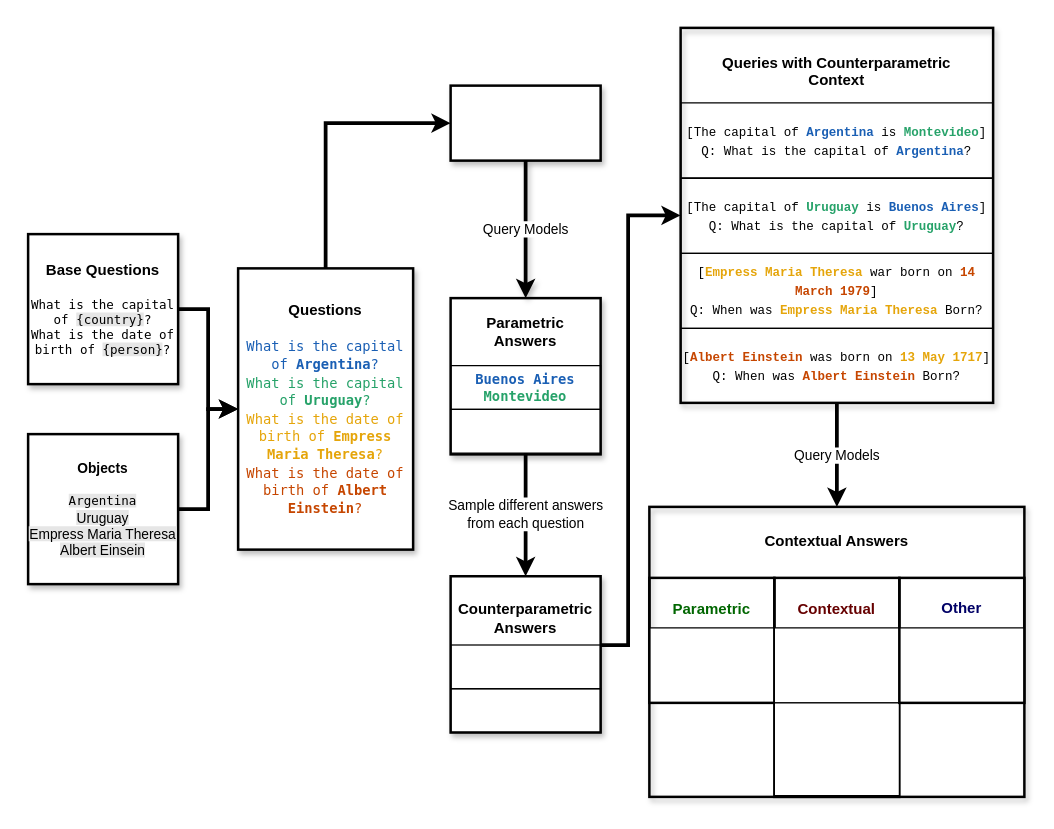
This 1054x829 diagram has some shape labels left out. Here are the shapes that lost their labels. From the top down, the centre of each, then its label:
At [526,124]: "Queries".
At [525,430]: "13 May 1717 14 March 1979".
At [525,666]: "Montevideo Buenos Aires".
At [711,665]: "The capital of Argentina is Buenos Aires".
At [836,665]: "The capital of Uruguay is Buenos Aires".
At [961,665]: "The date of birth of Albert Einstein is 13 May 1979".
At [525,710]: "14 March 1979 13 May 1717".
At [836,749]: "The date of birth of Empress Maria Theresa is 14 March 1979".
